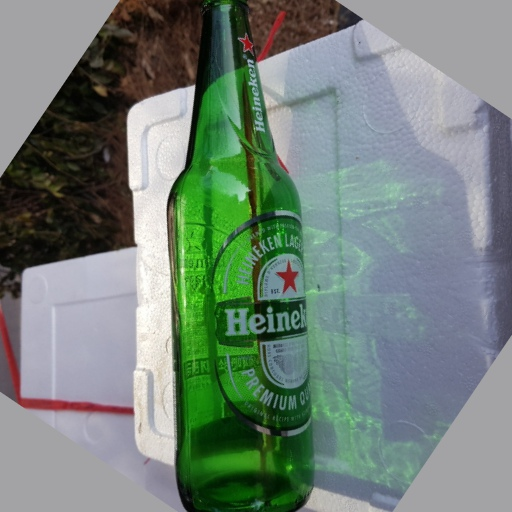Glass_1: (162, 4, 315, 512)
